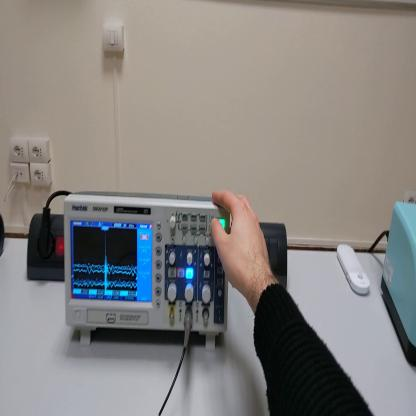hand: (210, 189, 271, 297)
oscilloscope: (67, 188, 232, 349)
socket: (28, 214, 65, 281), (1, 213, 6, 257)
welder station: (381, 202, 416, 370)
